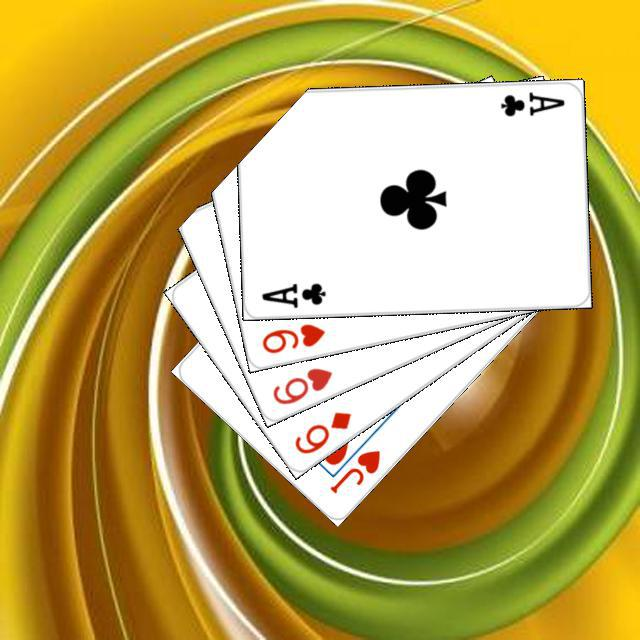6d: (289, 406, 353, 456)
6h: (267, 362, 334, 407)
9h: (257, 318, 327, 355)
Ac: (256, 278, 327, 310), (496, 87, 567, 118)
Jh: (324, 445, 382, 496)
